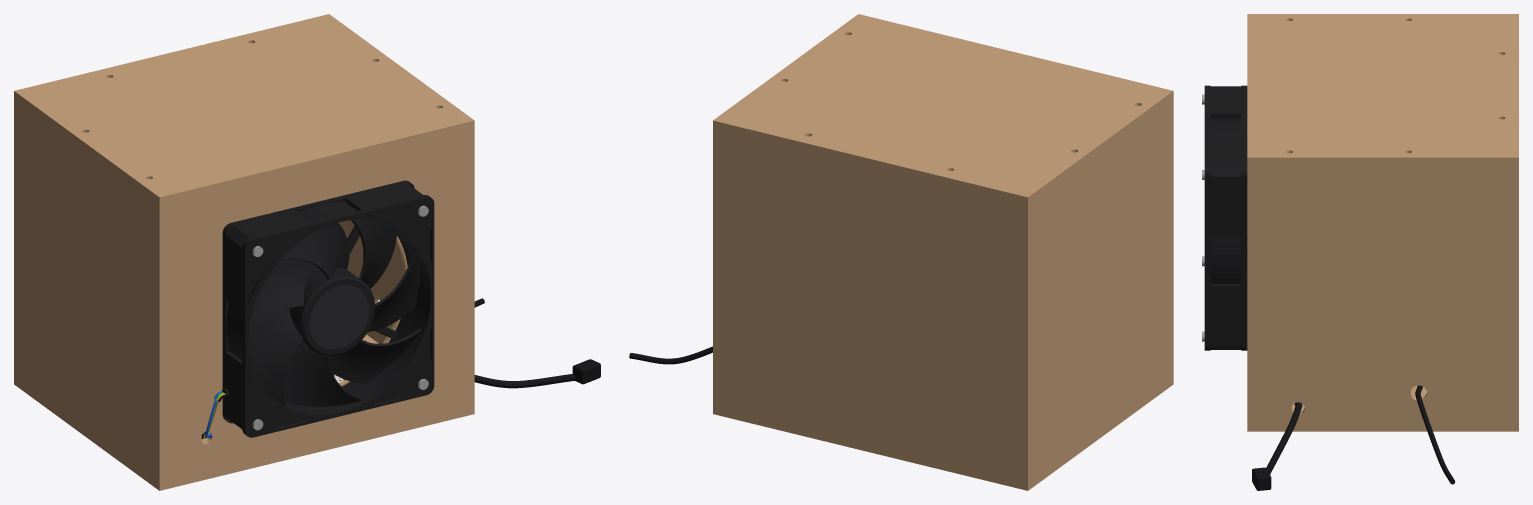
Rendered from assembly_detailed_transparent.glb.
3 renders of one model, left to right at view 1: azimuth 30°, elevation 25°; view 2: azimuth 150°, elevation 25°; view 3: azimuth 270°, elevation 25°, orthographic. The views are drawn at different scales.
Parts seen in each view (by area): view 1: Box_Walls, Box_Lid_Flap, Fan_Frame, Fan_Rotor, Cable_12V_DC_In; view 2: Box_Walls, Box_Lid_Flap; view 3: Box_Walls, Box_Lid_Flap, Fan_Frame, Cable_12V_DC_In, Cable_USB.
Boxes of the visible parts, left/top/right/bottom form: Box_Walls: left=14, top=96, right=474, bottom=490; Box_Lid_Flap: left=14, top=14, right=474, bottom=202; Fan_Frame: left=222, top=180, right=434, bottom=437; Fan_Rotor: left=248, top=219, right=421, bottom=406; Cable_12V_DC_In: left=474, top=359, right=600, bottom=388; Box_Walls: left=713, top=96, right=1173, bottom=490; Box_Lid_Flap: left=713, top=14, right=1173, bottom=202; Box_Walls: left=1247, top=162, right=1518, bottom=431; Box_Lid_Flap: left=1247, top=14, right=1518, bottom=162; Fan_Frame: left=1204, top=85, right=1247, bottom=350; Cable_12V_DC_In: left=1252, top=402, right=1301, bottom=490; Cable_USB: left=1415, top=385, right=1455, bottom=484.
Size of the model in its own units: 0.2836 by 0.1782 by 0.1866.
41 materials, 3 textured.
